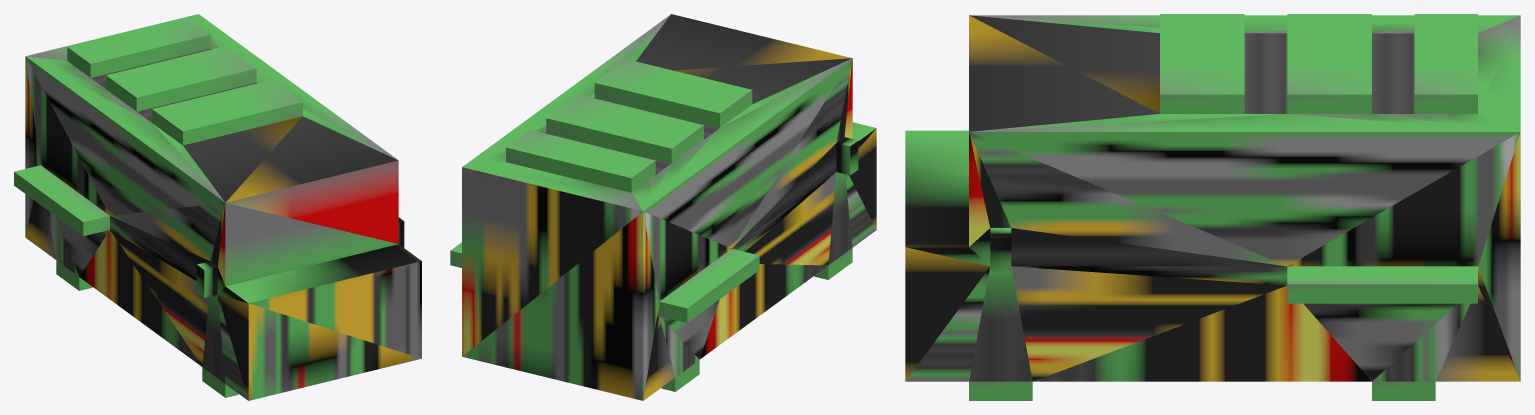
Rendered from veh_lunch3.fbx.
The picture shows the model from 3 angles, left to right: view 1: azimuth 30°, elevation 25°; view 2: azimuth 150°, elevation 25°; view 3: azimuth 270°, elevation 25°; orthographic projection. The views are drawn at different scales.
Visible parts, largest first — view 1: veh_lunch3; view 2: veh_lunch3; view 3: veh_lunch3.
Part boxes in pixels (left/top/right/bottom): veh_lunch3: left=14, top=14, right=421, bottom=400; veh_lunch3: left=450, top=14, right=876, bottom=400; veh_lunch3: left=905, top=14, right=1520, bottom=400.
Bounding box in the file's own units: 1.7 × 2.9 × 1.5.
